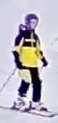skier: (0, 14, 58, 117)
